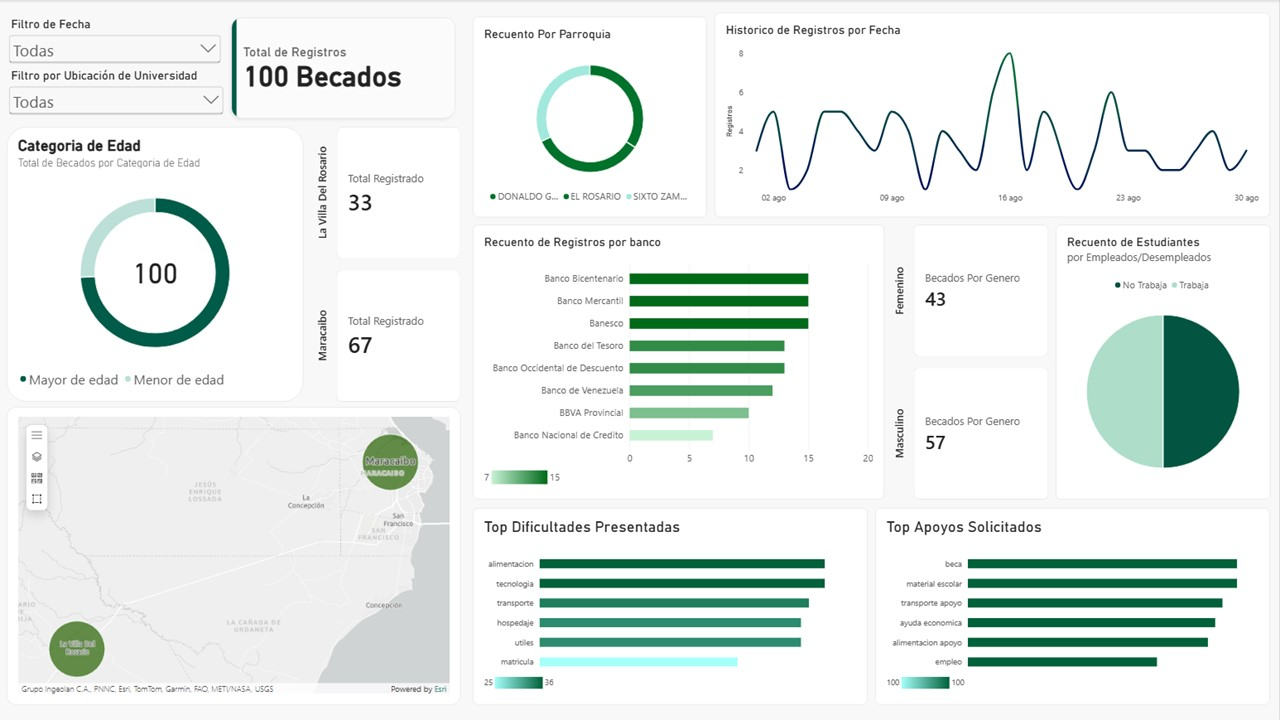

What the dashboard file says about the page in this screenshot:
{"tool":"powerbi","page":{"name":"Página 1","canvas":[1920,1080],"ordinal":0},"visuals":[{"type":"donutChart","title":"Categoria de Edad","fields":{"Category":["mock_becas_limpio.edad_categorica"],"Y":["CountNonNull(mock_becas_limpio.edad_categorica)"]},"box":[10.6,189.5,445.2,412.1],"z":0},{"type":"esriVisual","fields":{"Location":["mock_becas_limpio.ubicacion_universidad"]},"box":[10.6,609.5,681.1,446.5],"z":1000},{"type":"cardVisual","fields":{"Data":["CountNonNull(mock_becas_limpio.nombres_completos)"]},"box":[341.4,19,350.2,166.3],"z":2000},{"type":"clusteredBarChart","fields":{"Category":["mock_becas_limpio.banco"],"Y":["CountNonNull(mock_becas_limpio.banco)"]},"box":[710.2,336.6,617.5,412.1],"z":3000},{"type":"slicer","fields":{"Values":["mock_becas_limpio.ubicacion_universidad"]},"box":[10.2,102.1,331.2,71.5],"z":4000},{"type":"pieChart","fields":{"Category":["mock_becas_limpio.trabaja"],"Y":["CountNonNull(mock_becas_limpio.trabaja)"]},"box":[1583.4,336.6,322,412.1],"z":5000},{"type":"cardVisual","fields":{"Data":["CountNonNull(mock_becas_limpio.ubicacion_universidad)"],"Rows":["mock_becas_limpio.ubicacion_universidad"]},"box":[473,189.5,218.6,412.1],"z":6000},{"type":"lineChart","title":"Historico de Registros por Fecha","fields":{"Category":["mock_becas_limpio.fecha"],"Y":["CountNonNull(mock_becas_limpio.nombres_completos)"]},"box":[1072,18.6,833.5,307.4],"z":7000},{"type":"slicer","fields":{"Values":["mock_becas_limpio.fecha.Variación.Jerarquía de fechas.Año","mock_becas_limpio.fecha.Variación.Jerarquía de fechas.Mes"]},"box":[10.2,24.8,326.8,72.9],"z":8000},{"type":"clusteredBarChart","title":"Top Dificultades Presentadas","fields":{"Category":["auxiliar_dificultades.dificultades"],"Y":["CountNonNull(auxiliar_dificultades.numero_cuenta)"]},"box":[710.2,760.6,592.3,295.5],"z":9000},{"type":"donutChart","title":"Recuento Por Parroquia","fields":{"Category":["mock_becas_limpio.parroquia"],"Y":["CountNonNull(mock_becas_limpio.parroquia)"]},"box":[710.2,25.2,351.1,300.8],"z":10000},{"type":"cardVisual","fields":{"Data":["CountNonNull(mock_becas_limpio.genero)"],"Rows":["mock_becas_limpio.genero"]},"box":[1338.3,336.6,235.9,412.1],"z":11000},{"type":"clusteredBarChart","title":"Top Apoyos Solicitados","fields":{"Category":["auxiliar_apoyos.apoyos"],"Y":["CountNonNull(auxiliar_apoyos.numero_cuenta)"]},"box":[1313.1,760.6,592.3,295.5],"z":11001}]}

Visuals, with their boxes in screenshot pixels (x1, y1, x2, y2), scaled from the page's 1920x1080 canvas onto the 1280x720 screenshot:
"Categoria de Edad" donutChart: pyautogui.locateOnScreen(7, 126, 304, 401)
esriVisual - mock_becas_limpio.ubicacion_universidad: pyautogui.locateOnScreen(7, 406, 461, 704)
cardVisual - CountNonNull(mock_becas_limpio.nombres_completos): pyautogui.locateOnScreen(228, 13, 461, 124)
clusteredBarChart - mock_becas_limpio.banco x CountNonNull(mock_becas_limpio.banco): pyautogui.locateOnScreen(473, 224, 885, 499)
slicer - mock_becas_limpio.ubicacion_universidad: pyautogui.locateOnScreen(7, 68, 228, 116)
pieChart - mock_becas_limpio.trabaja x CountNonNull(mock_becas_limpio.trabaja): pyautogui.locateOnScreen(1056, 224, 1270, 499)
cardVisual - CountNonNull(mock_becas_limpio.ubicacion_universidad) x mock_becas_limpio.ubicacion_universidad: pyautogui.locateOnScreen(315, 126, 461, 401)
"Historico de Registros por Fecha" lineChart: pyautogui.locateOnScreen(715, 12, 1270, 217)
slicer - mock_becas_limpio.fecha.Variación.Jerarquía de fechas.Año x mock_becas_limpio.fecha.Variación.Jerarquía de fechas.Mes: pyautogui.locateOnScreen(7, 17, 225, 65)
"Top Dificultades Presentadas" clusteredBarChart: pyautogui.locateOnScreen(473, 507, 868, 704)
"Recuento Por Parroquia" donutChart: pyautogui.locateOnScreen(473, 17, 708, 217)
cardVisual - CountNonNull(mock_becas_limpio.genero) x mock_becas_limpio.genero: pyautogui.locateOnScreen(892, 224, 1049, 499)
"Top Apoyos Solicitados" clusteredBarChart: pyautogui.locateOnScreen(875, 507, 1270, 704)
